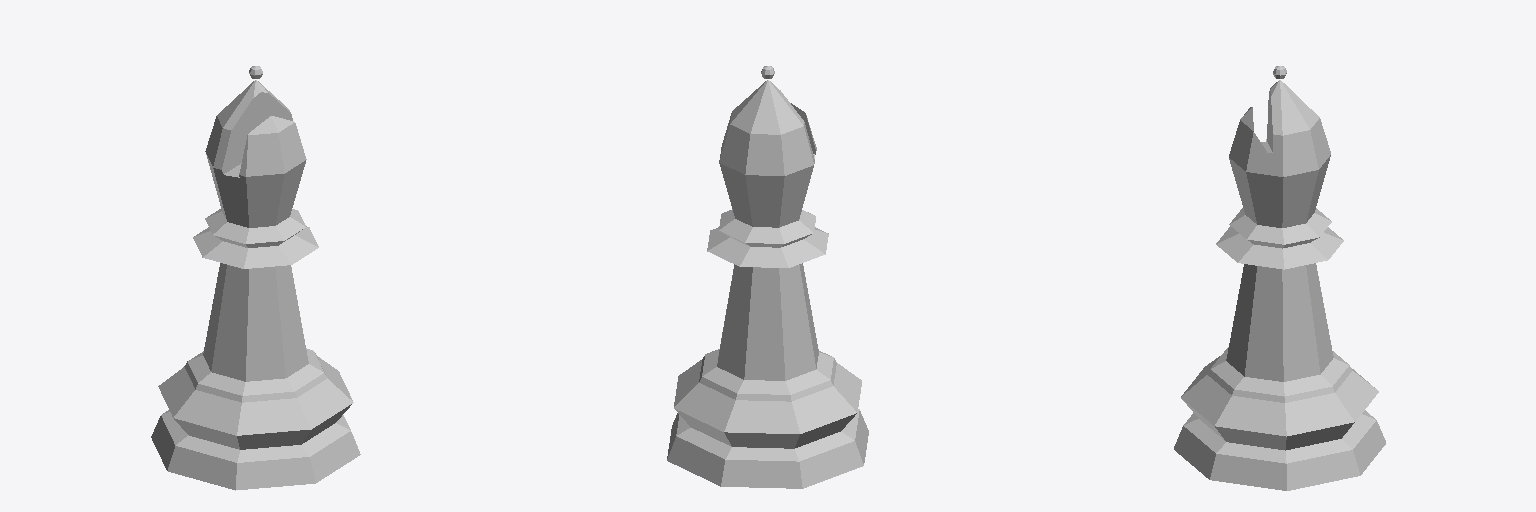
File: Bishop.obj
The picture shows the model from 3 angles: view 1: azimuth 30°, elevation 25°; view 2: azimuth 150°, elevation 25°; view 3: azimuth 270°, elevation 25°; orthographic projection.
Visible parts, largest first — view 1: LP_Bishop_Sphere; view 2: LP_Bishop_Sphere; view 3: LP_Bishop_Sphere.
Part boxes in pixels (x1,y1,x2,y2): LP_Bishop_Sphere: (151, 66, 360, 490); LP_Bishop_Sphere: (667, 66, 868, 488); LP_Bishop_Sphere: (1174, 66, 1385, 490).
Bounding box in the file's own units: 3.99 × 7.84 × 3.99.